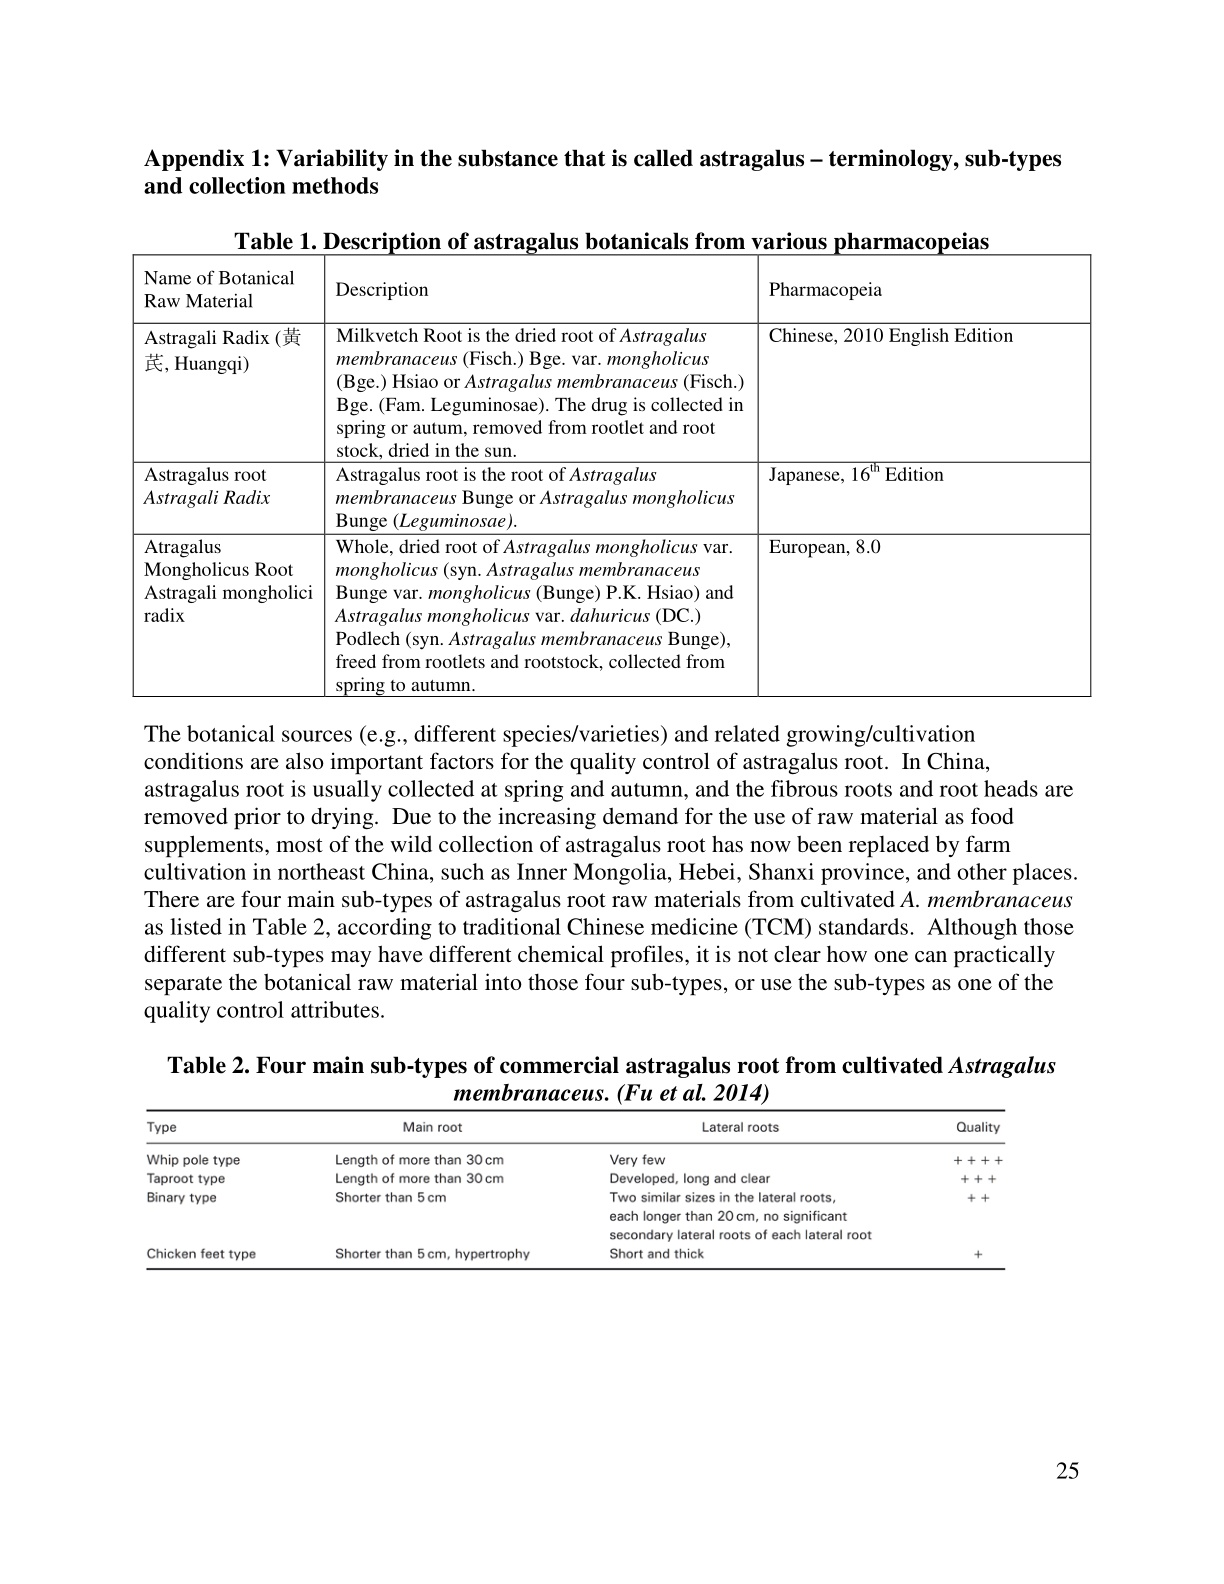full_lined: (132, 252, 1094, 698)
partial_lined: (143, 1108, 1009, 1272)
